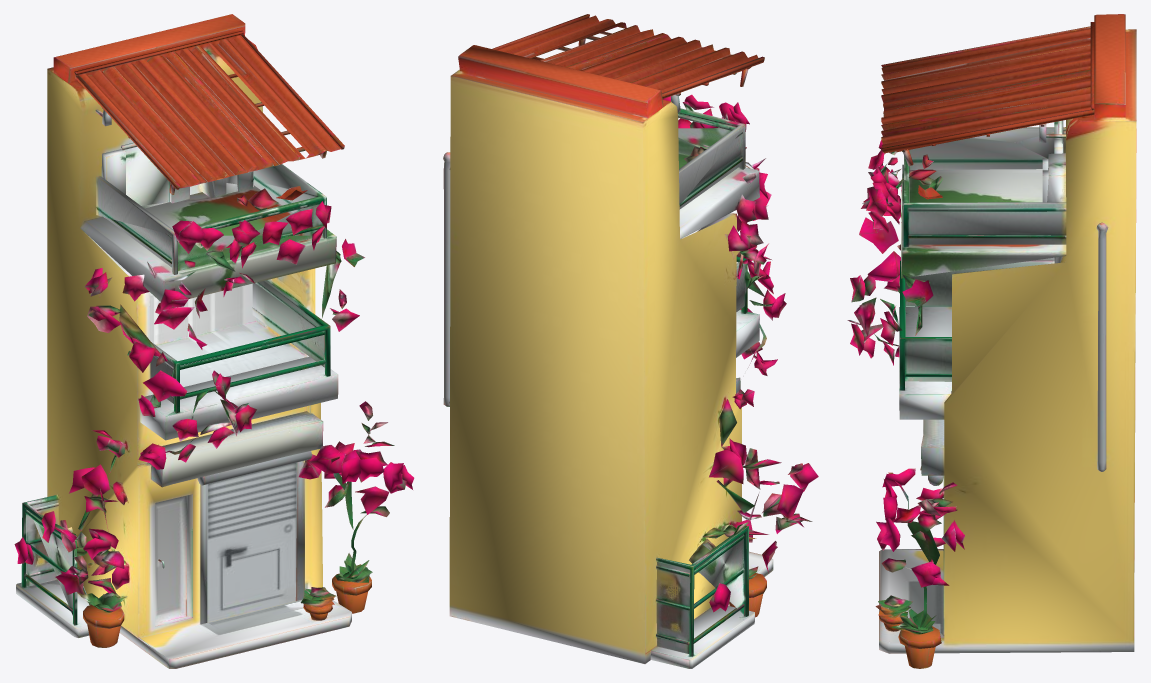
File: house.glb
3 renders of one model, left to right at view 1: azimuth 30°, elevation 25°; view 2: azimuth 150°, elevation 25°; view 3: azimuth 270°, elevation 25°, orthographic. The views are drawn at different scales.
Size of the model in its own units: 0.6309 by 0.9531 by 0.4551.
Materials: 1 (1 with a texture image).
